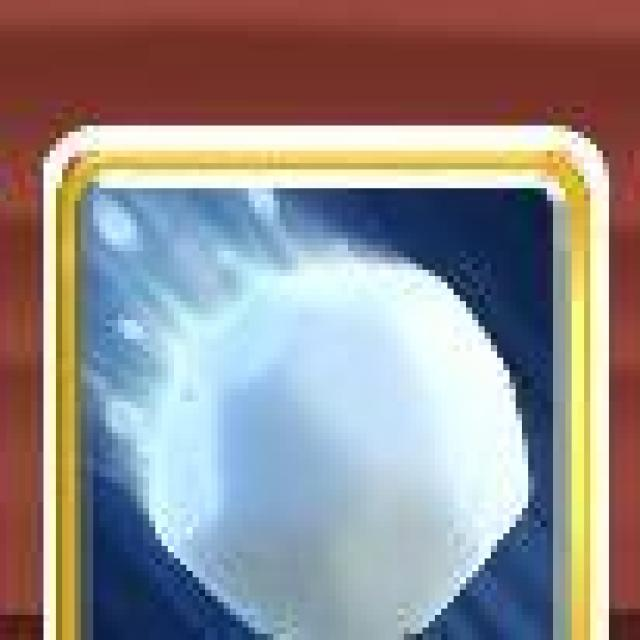Snowball: (39, 121, 609, 640)
